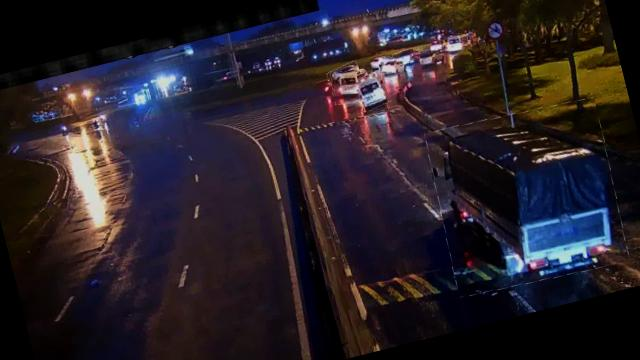Bus: (352, 70, 392, 112), (328, 68, 362, 106)
Car: (326, 61, 362, 85), (377, 54, 406, 78), (413, 48, 438, 68), (392, 49, 418, 68)
Truck: (421, 93, 634, 302)
